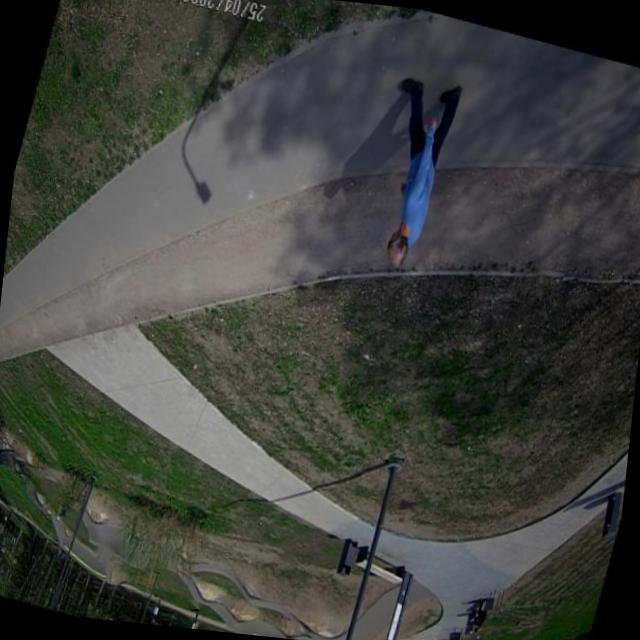person: (352, 66, 465, 279)
